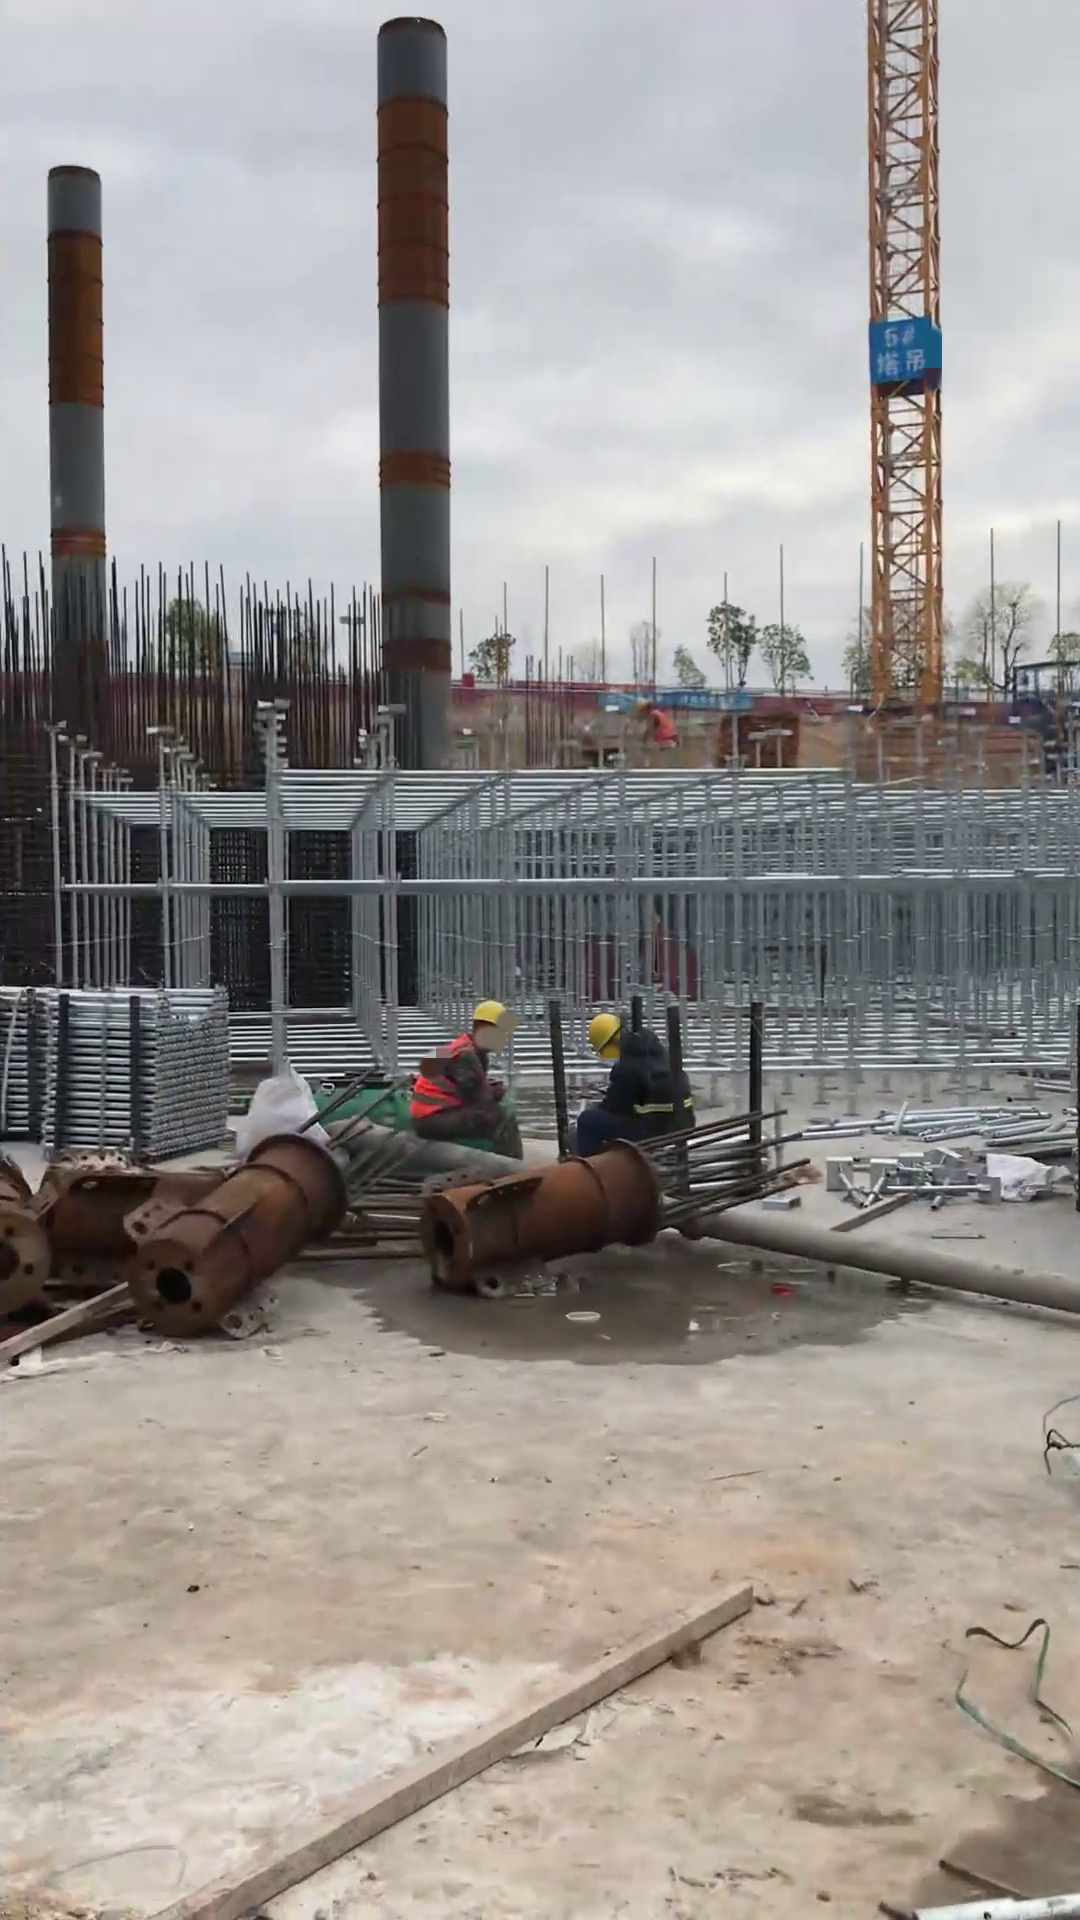helmet: (586, 1012, 626, 1055), (472, 997, 507, 1033), (632, 694, 651, 715)
person: (409, 994, 528, 1167), (572, 1012, 695, 1157), (630, 694, 680, 750)
vest: (624, 1041, 696, 1135), (408, 1030, 479, 1118), (650, 705, 680, 742)
